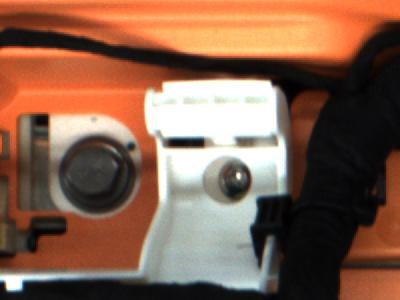nut_b: (54, 135, 138, 216)
